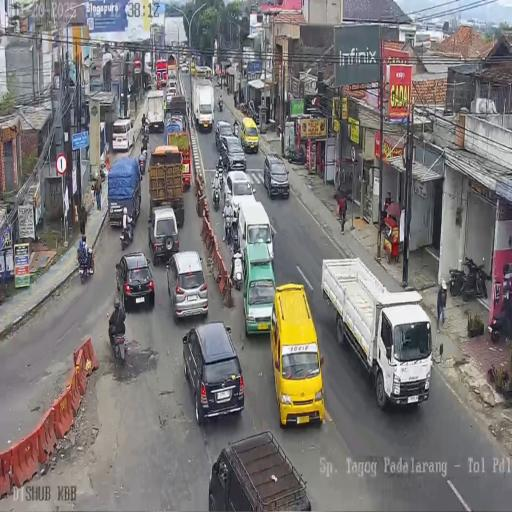3: (322, 253, 431, 408), (148, 144, 186, 234), (107, 156, 141, 228), (194, 81, 214, 132), (146, 92, 166, 135), (155, 59, 168, 88)
car: (207, 431, 309, 508), (274, 285, 328, 427), (182, 321, 245, 426), (166, 250, 209, 322), (242, 243, 276, 332), (115, 252, 154, 312), (223, 168, 254, 219), (264, 154, 290, 200), (220, 134, 246, 172), (112, 117, 136, 153), (240, 117, 260, 153), (166, 82, 177, 100), (167, 70, 177, 85), (204, 66, 212, 78), (180, 62, 188, 73), (190, 63, 196, 75)
truck: (448, 256, 489, 302), (490, 299, 512, 343), (109, 320, 127, 364), (77, 246, 94, 284), (286, 143, 306, 165), (120, 217, 132, 251), (138, 148, 148, 176), (212, 177, 220, 209), (141, 120, 150, 142), (241, 101, 248, 115), (233, 120, 239, 136), (276, 124, 282, 138), (218, 95, 223, 111), (217, 76, 222, 86)
